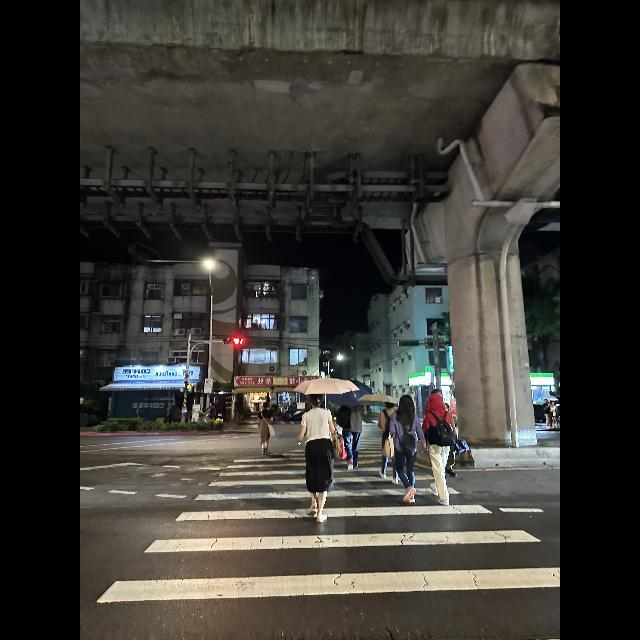sidewalk: (100, 429, 560, 604)
